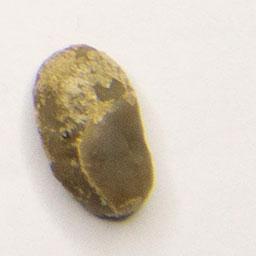premium: (28, 38, 157, 224)
